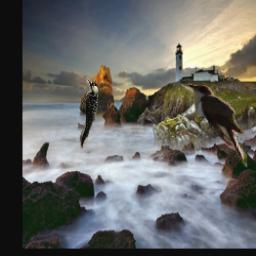Cuckoo: (187, 82, 246, 169)
Woodpecker: (76, 76, 101, 154)
